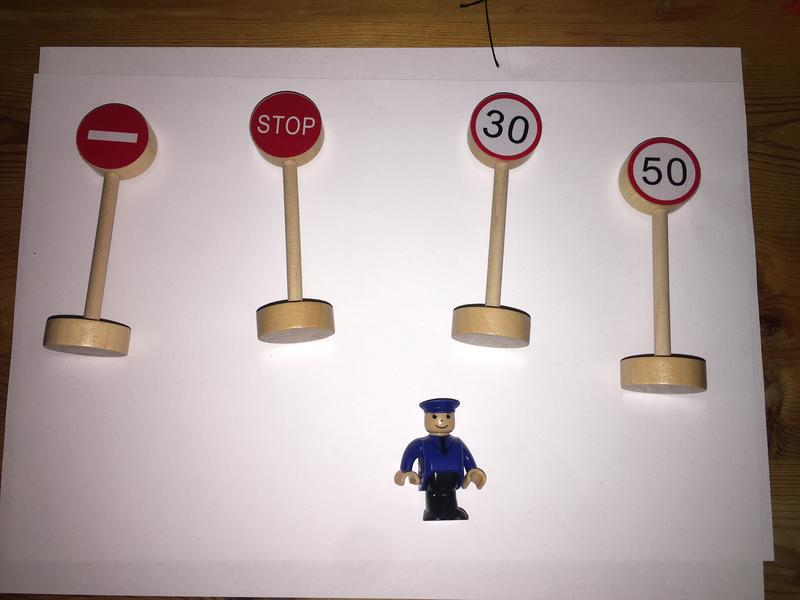Traffic_Sign_30: (469, 93, 541, 161)
Traffic_Sign_50: (625, 136, 703, 205)
Traffic_Sign_No_Entry: (77, 102, 150, 169)
Traffic_Sign_Stop: (250, 90, 322, 158)
person: (393, 397, 487, 525)
